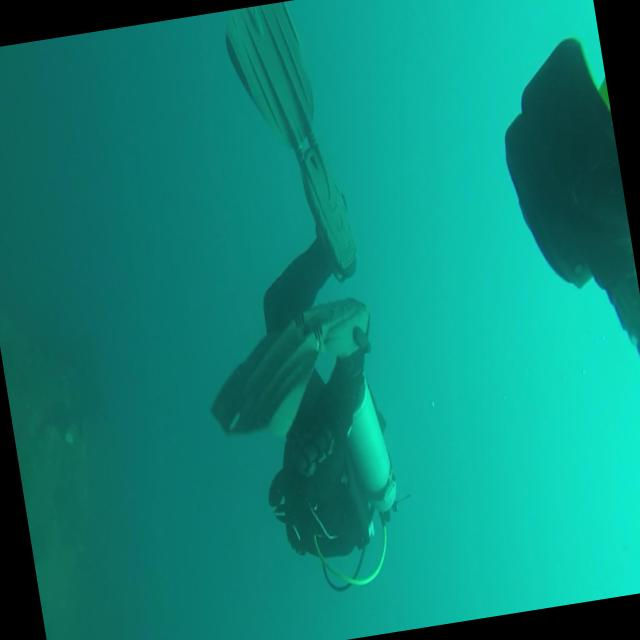human: (149, 0, 416, 607)
